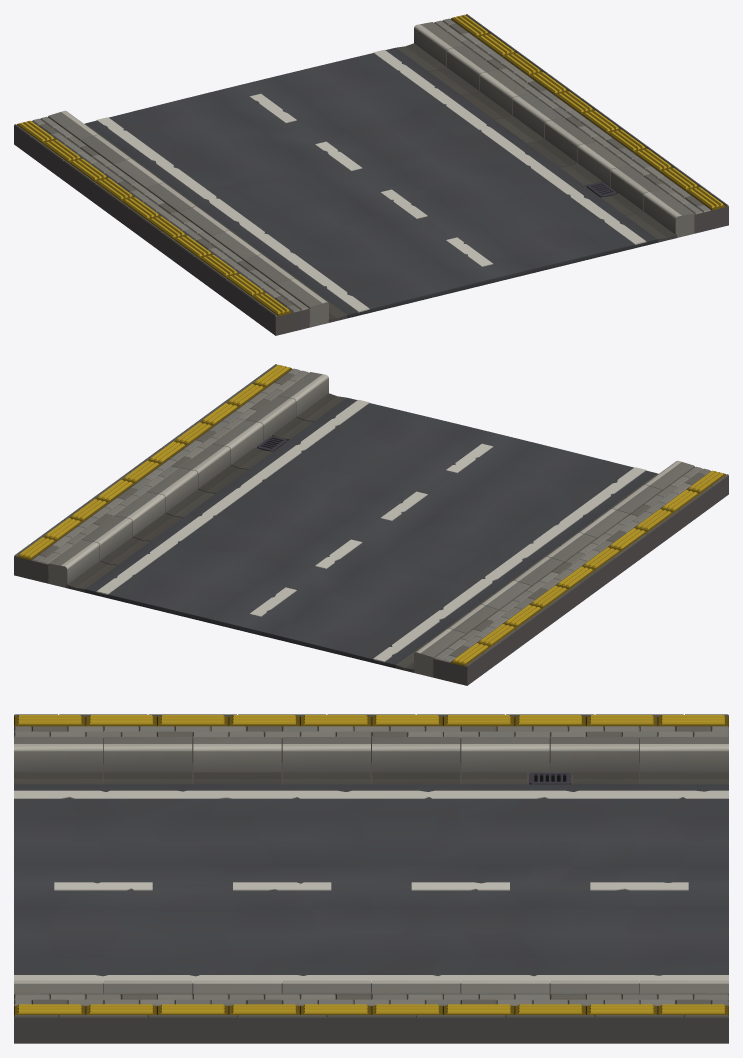
The model's file is road-straight-accessible-01.glb.
The picture shows the model from 3 angles, top to bottom: view 1: azimuth 30°, elevation 25°; view 2: azimuth 150°, elevation 25°; view 3: azimuth 270°, elevation 25°; orthographic projection. The views are drawn at different scales.
Parts seen in each view (by area): view 1: road_straight_accessible_01; view 2: road_straight_accessible_01; view 3: road_straight_accessible_01.
Part boxes in pixels (bbox=[...]): road_straight_accessible_01: bbox=[14, 14, 728, 335]; road_straight_accessible_01: bbox=[14, 364, 728, 685]; road_straight_accessible_01: bbox=[14, 714, 728, 1043].
Bounding box in the file's own units: 4 × 0.1819 × 4.
